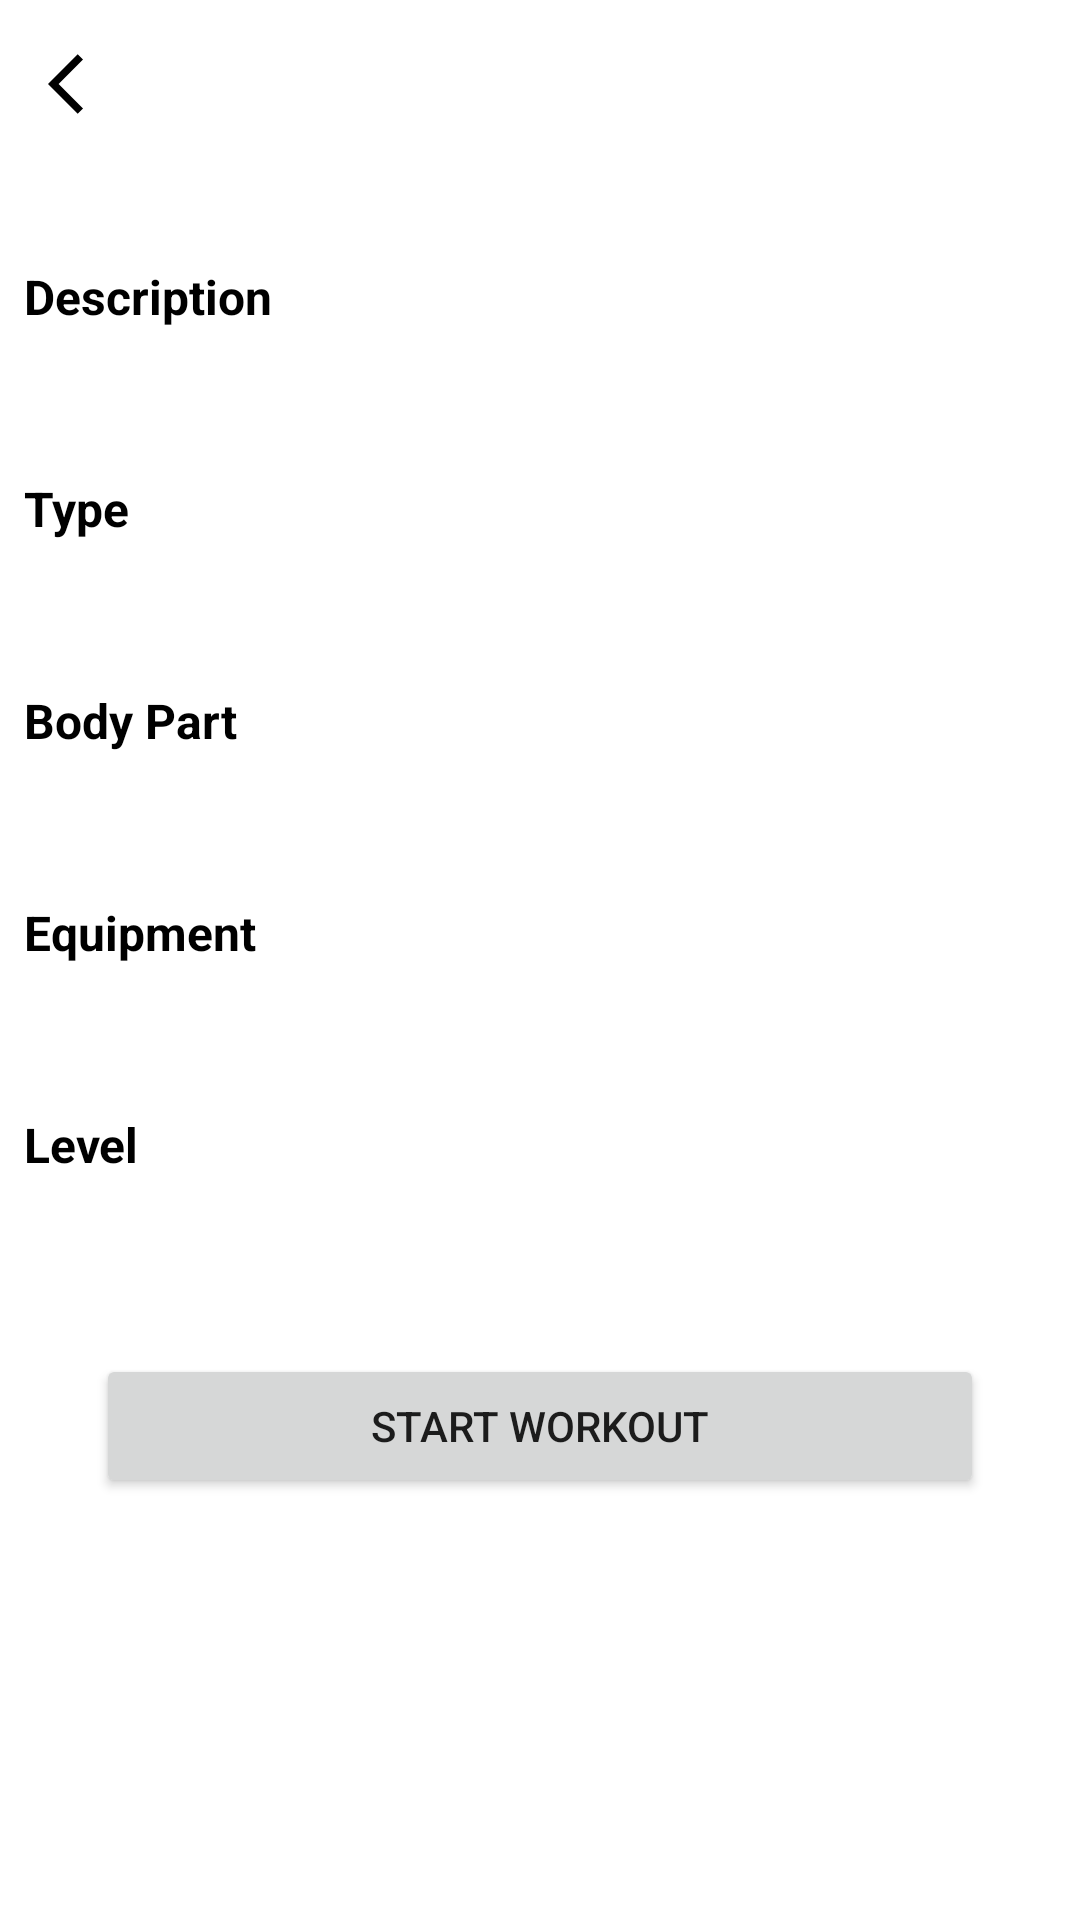

Where to tap for icons on this 1080px×1920px app screen, as (x,y):
Back Button: (65,84)
